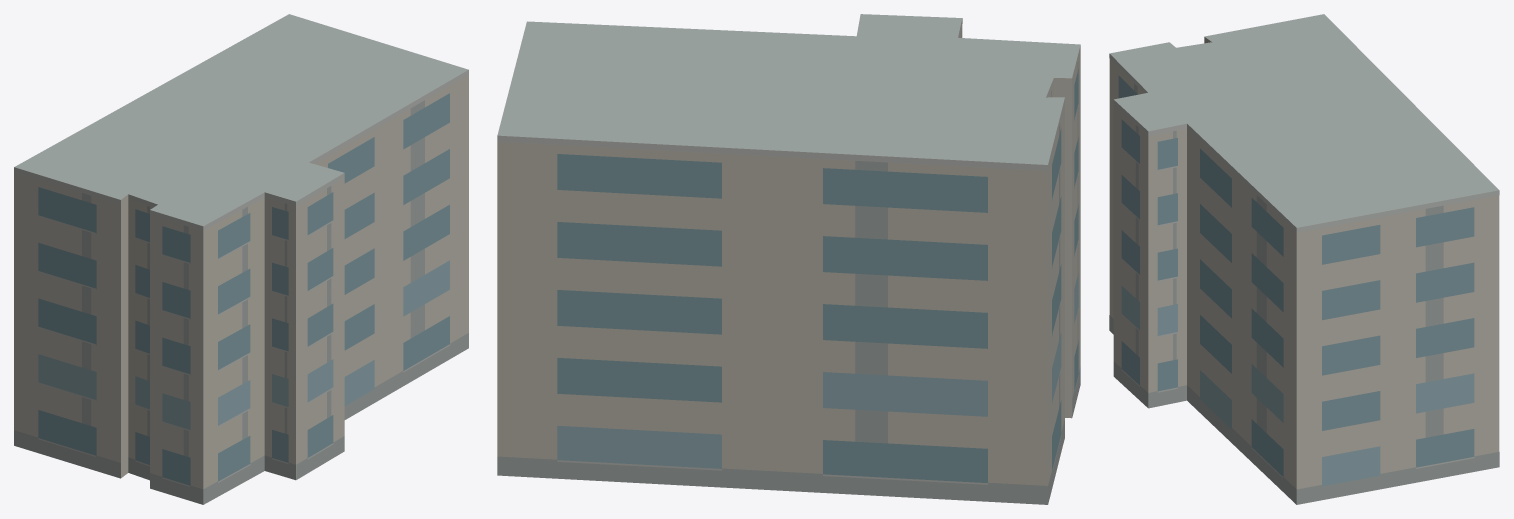
Rendered from survey-upis-32809127.glb.
3 views of the same model, side by side, from view 1: azimuth 30°, elevation 25°; view 2: azimuth 150°, elevation 25°; view 3: azimuth 270°, elevation 25° (orthographic). The views are drawn at different scales.
Visible parts, largest first — view 1: survey-upis-32809127.tmp; view 2: survey-upis-32809127.tmp; view 3: survey-upis-32809127.tmp.
Boxes of the visible parts, x1,y1,x2,y2 form: survey-upis-32809127.tmp: (14, 14, 468, 504); survey-upis-32809127.tmp: (497, 14, 1080, 504); survey-upis-32809127.tmp: (1109, 14, 1499, 504).
Bounding box in the file's own units: 22.7 × 13.7 × 17.49.
